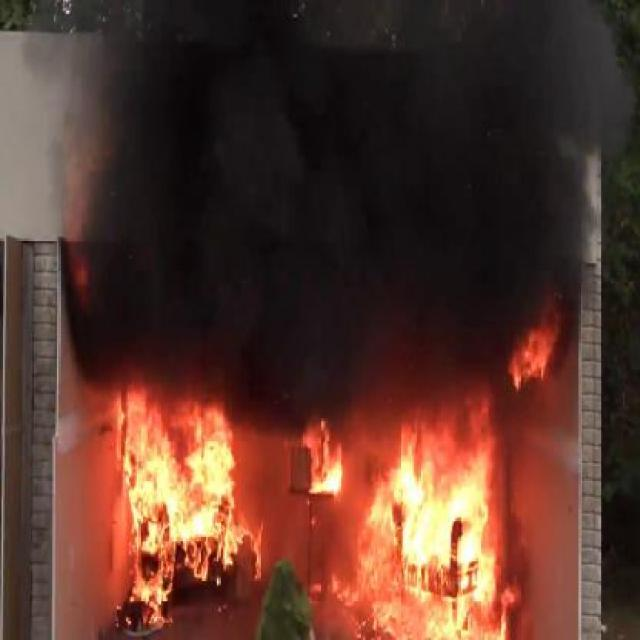fire: (308, 383, 550, 640), (118, 370, 248, 615)
smoke: (104, 36, 581, 362)
